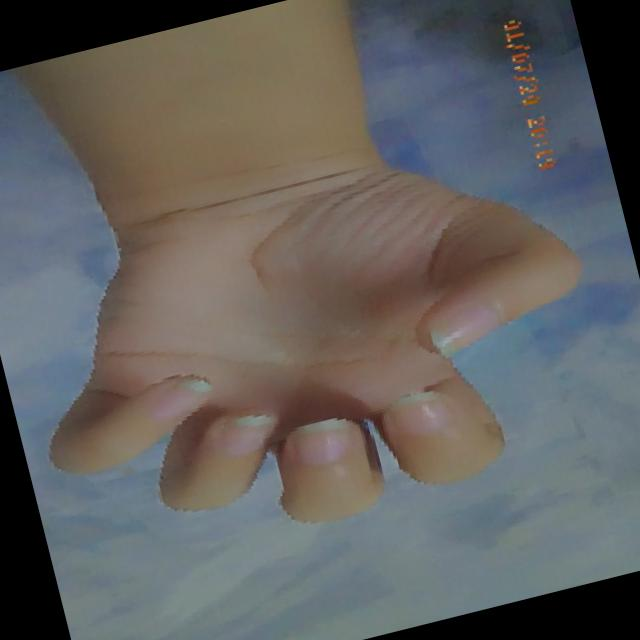Nail: (428, 305, 498, 357), (146, 376, 210, 419), (291, 417, 348, 465), (392, 391, 448, 434), (214, 415, 274, 455)
